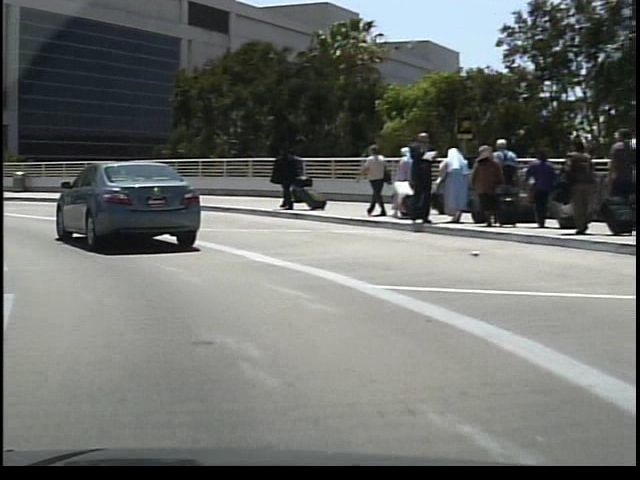person: (401, 128, 437, 227), (354, 139, 389, 219), (266, 143, 299, 211), (286, 153, 306, 204)
